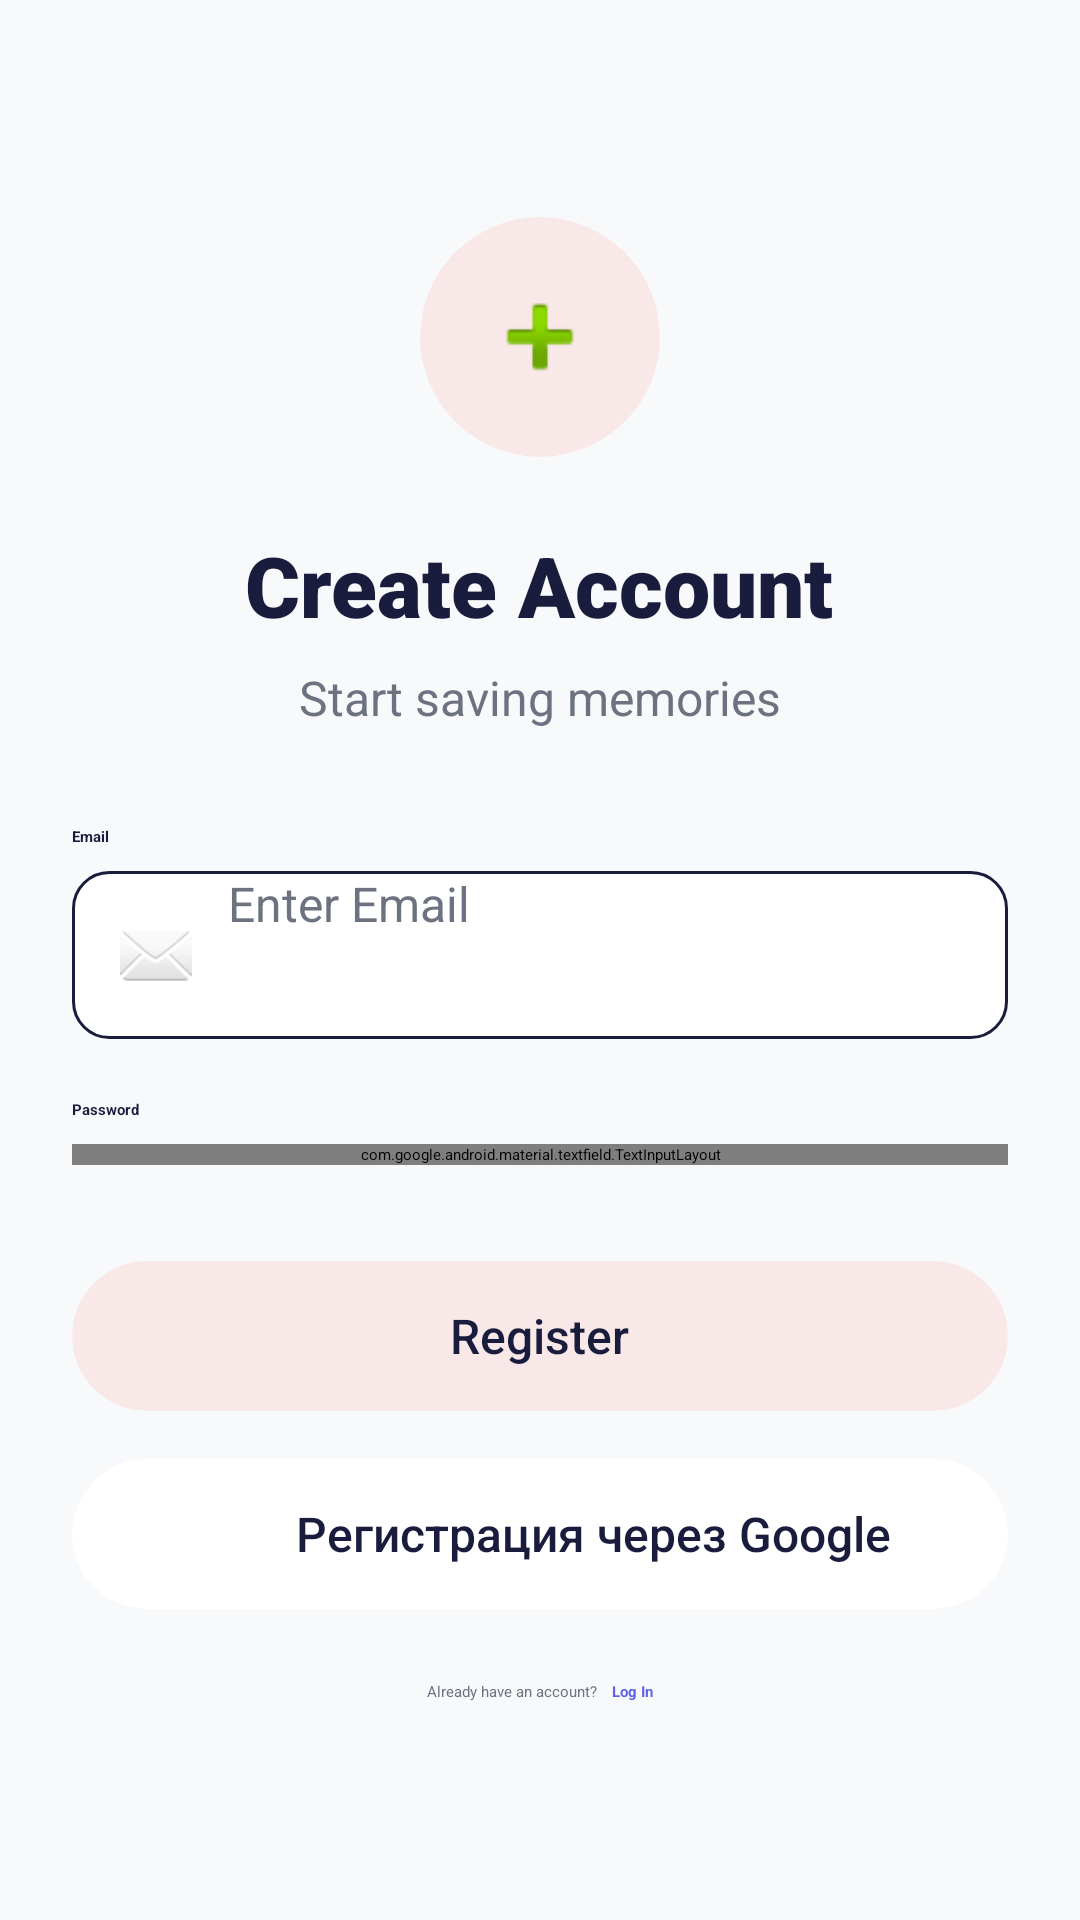

Screen size 1080 x 1920. Icon name, then its center in pixels as point (x, y):
add: point (540, 337)
